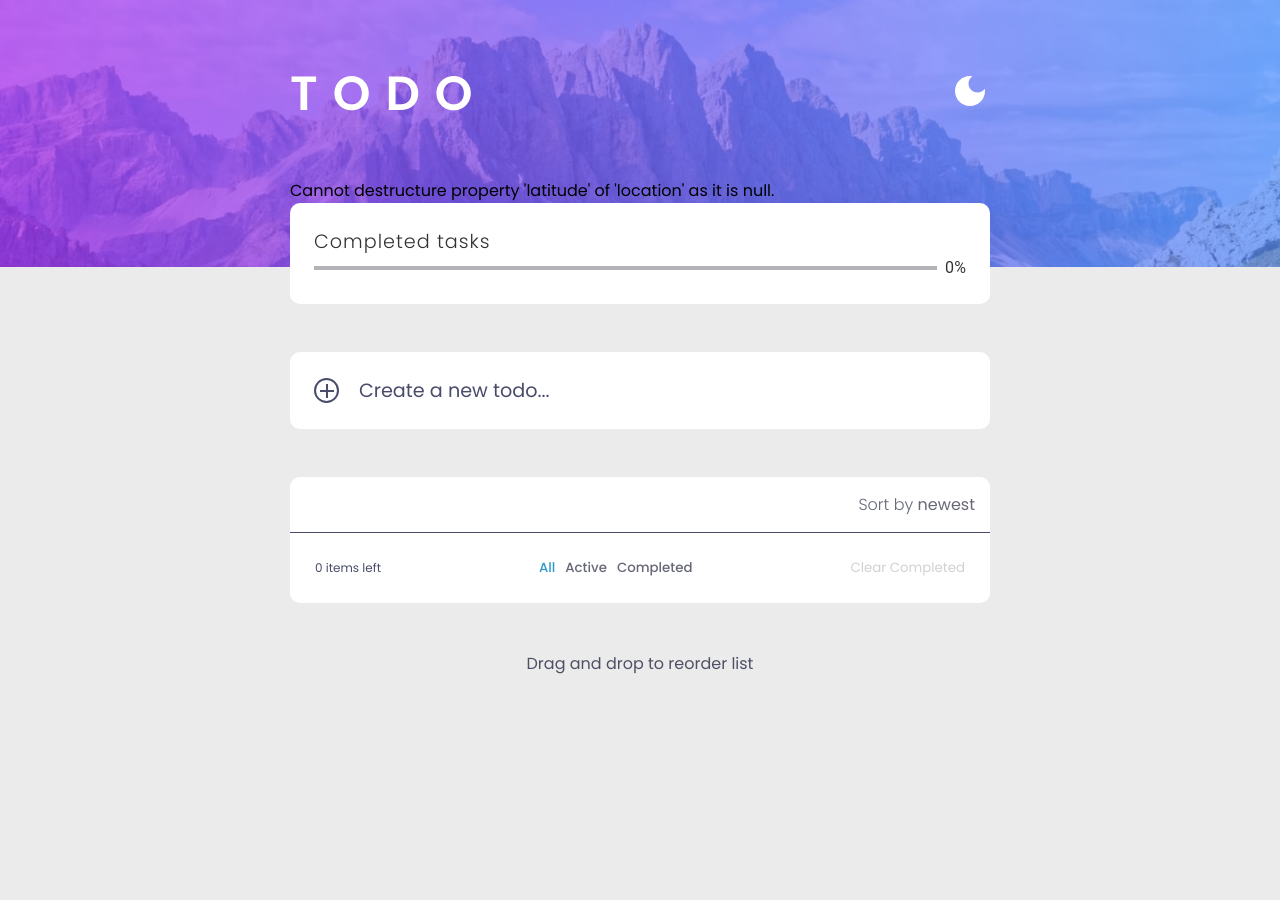
Test: ToDoList Component › close dialog when clicking No
The image size is (1280, 900).
Click the button with aria-label "clear-completed-button" at x=908, y=568, box [850,558,965,578]
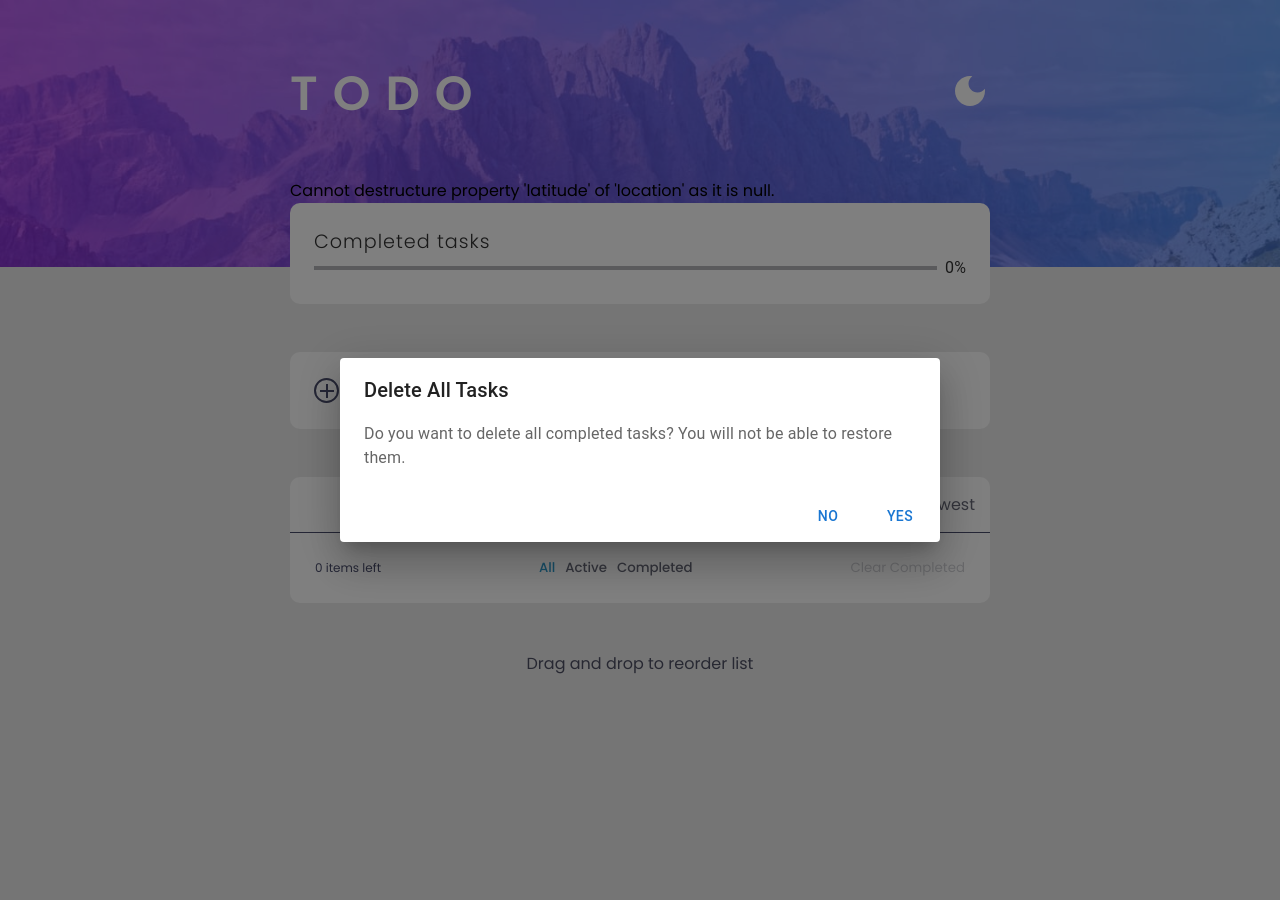
Click the button with aria-label "no-button" at x=828, y=516, box [796,498,860,534]
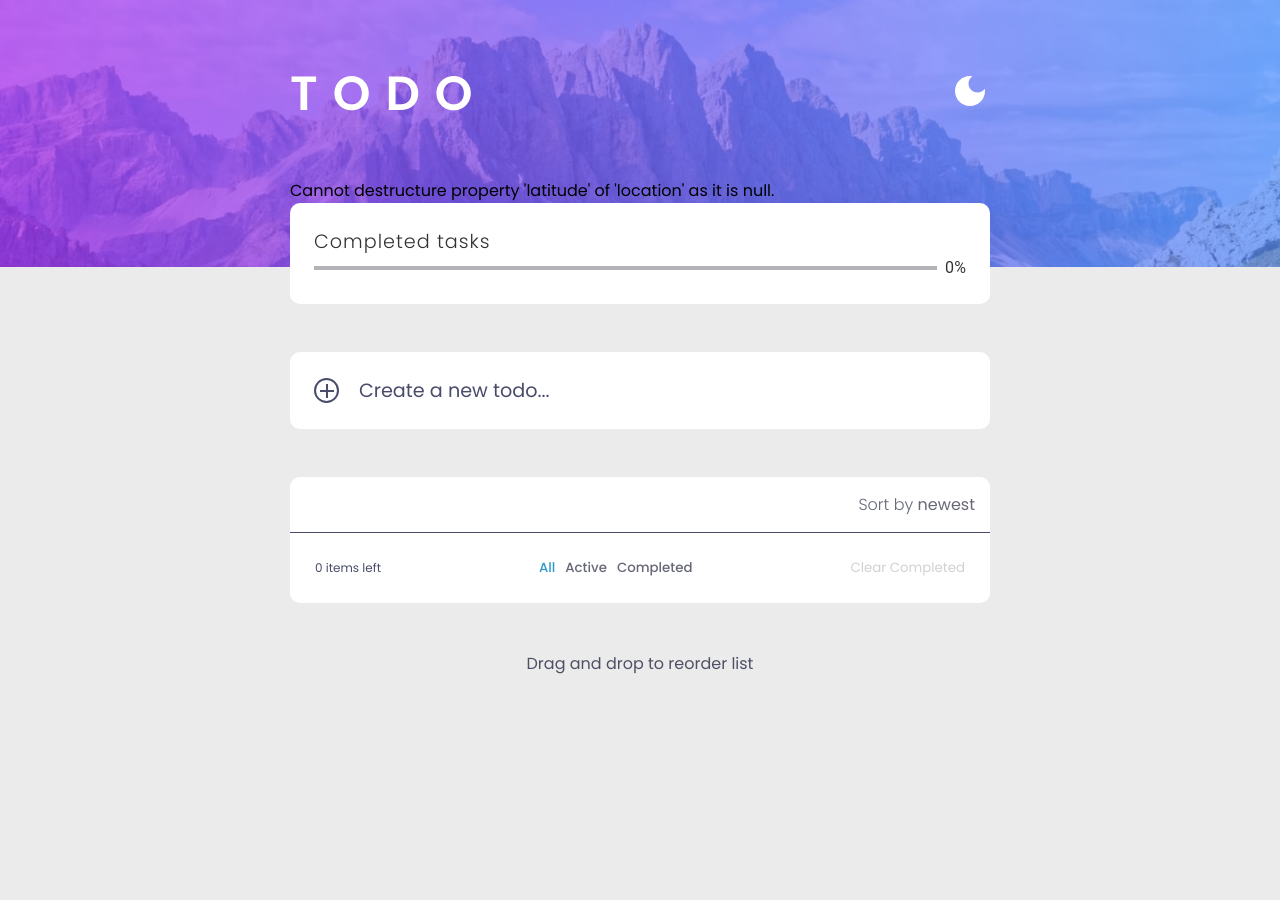
Expected: the dialog is gone
